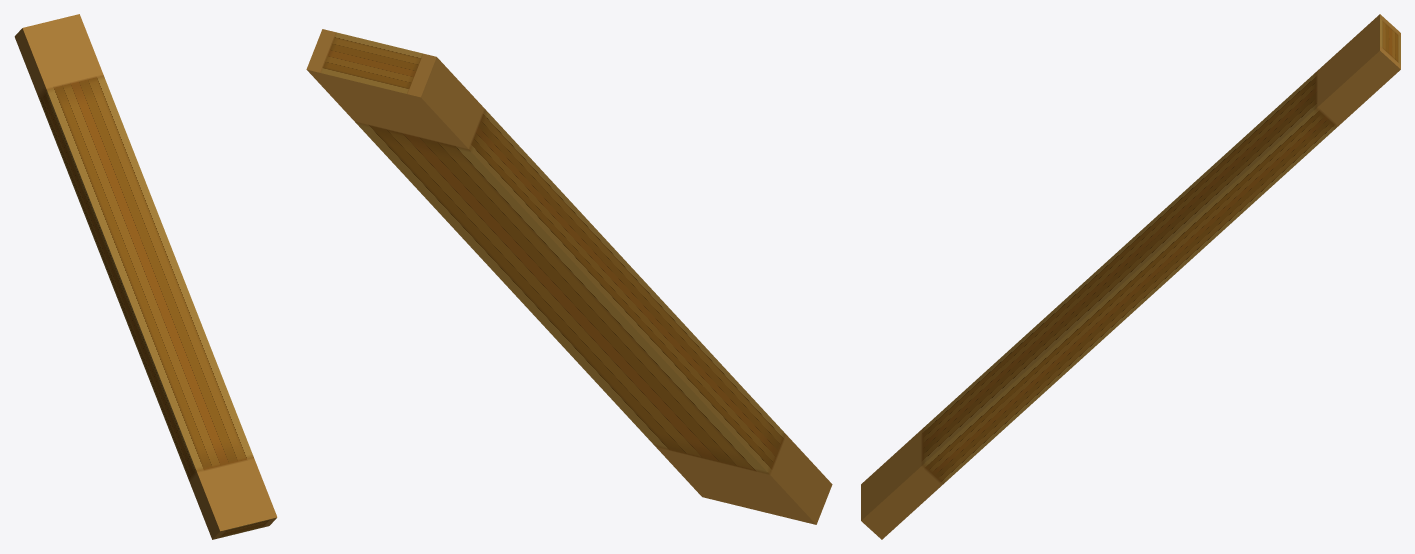
The model's file is Wood_piece.FBX.
The picture shows the model from 3 angles, left to right: view 1: azimuth 30°, elevation 25°; view 2: azimuth 150°, elevation 25°; view 3: azimuth 270°, elevation 25°; orthographic projection. The views are drawn at different scales.
Visible parts, largest first — view 1: Wood_piece; view 2: Wood_piece; view 3: Wood_piece.
Boxes of the visible parts, x1=… form: Wood_piece: x1=14, y1=14, x2=277, y2=539; Wood_piece: x1=306, y1=29, x2=832, y2=524; Wood_piece: x1=861, y1=14, x2=1400, y2=539.
Bounding box in the file's own units: 0.8695 × 5.42 × 5.42.
Materials: 1 (1 with a texture image).
